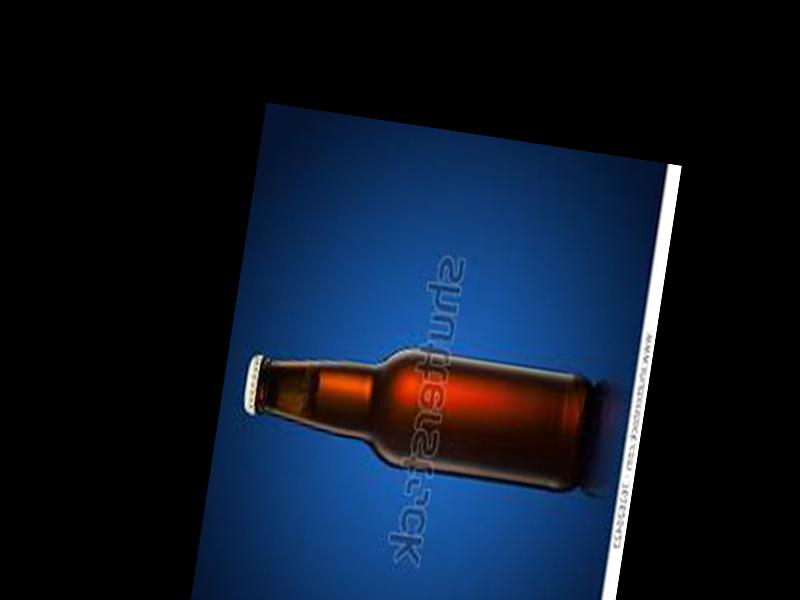Beer: (235, 323, 596, 496)
